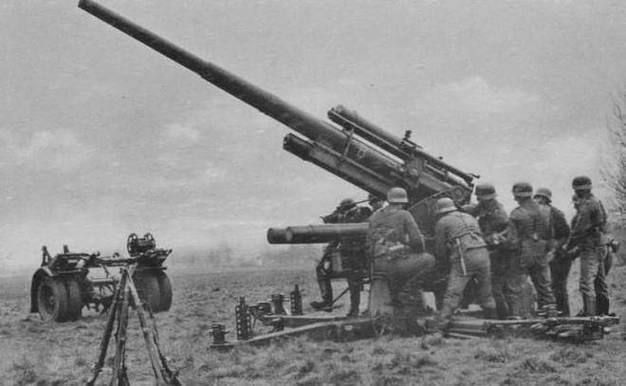MIL_SPG: (79, 0, 473, 237)
